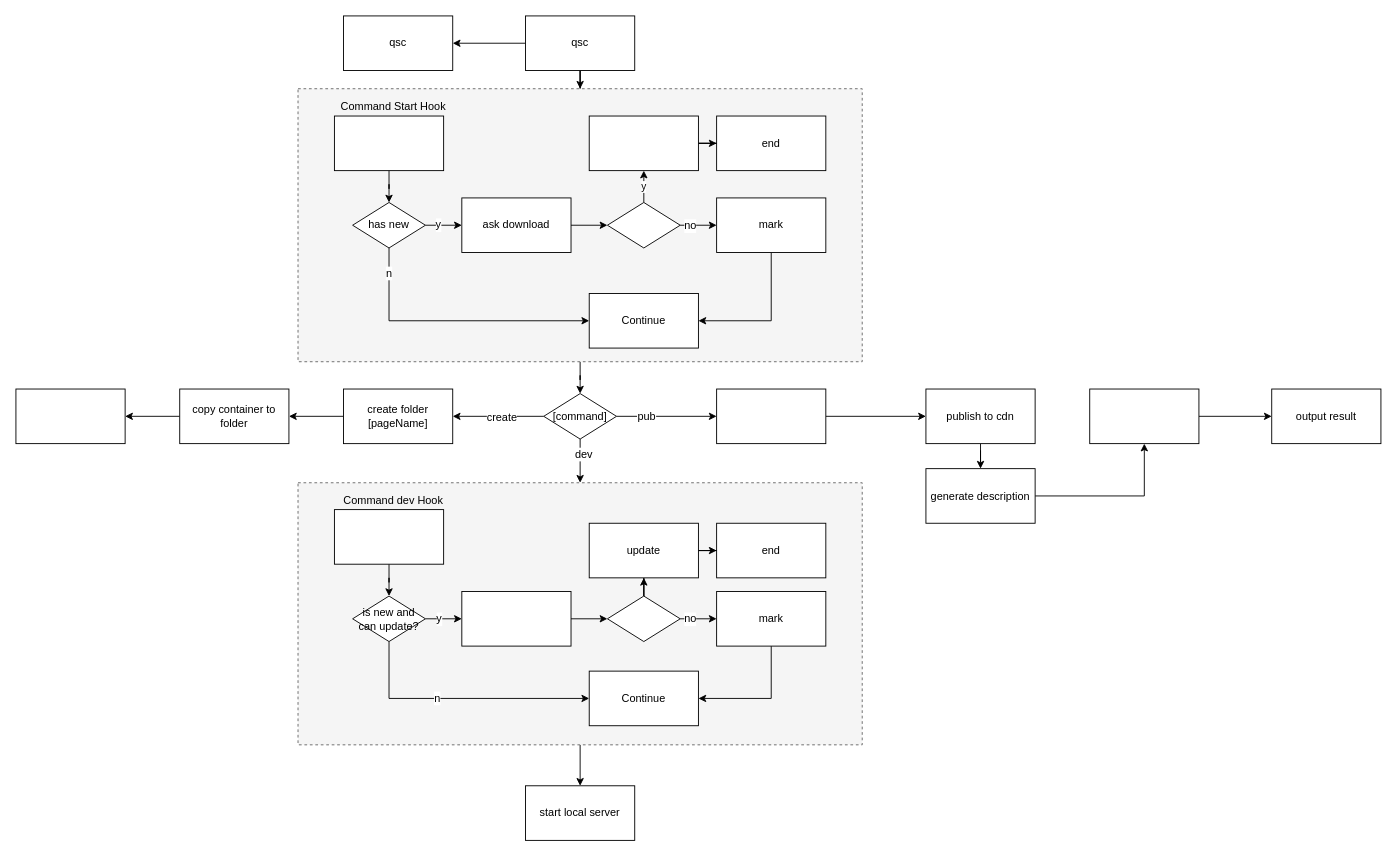
This 1397x856 diagram has some shape labels left out. The shapes that lost their labels are listed below. From the top down, each one's box as (x1, y1, x2, y2) in pixels, then its label:
(334, 115, 444, 171): check remote version
(588, 115, 698, 171): download
(607, 202, 680, 248): download?
(15, 388, 125, 444): install packages
(716, 388, 826, 444): build
(1089, 388, 1199, 444): push to server
(334, 509, 444, 564): check local boilerplate version
(461, 591, 571, 646): ask update
(607, 595, 680, 642): update?
